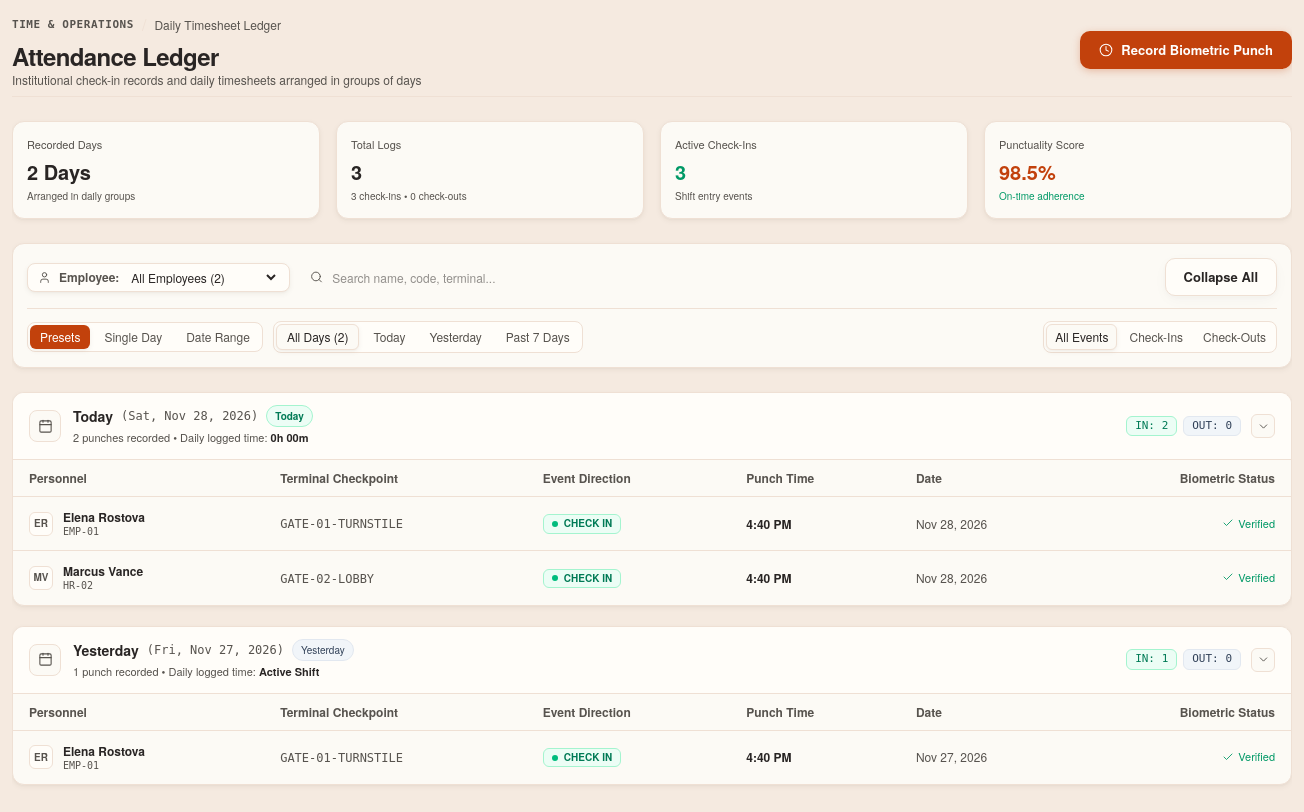
Test: AttendancePage - Role-Based Attendance Ledger Arranged in Groups of Days › allows HR to search or select one specific employee and view only their attendance
The image size is (1304, 812).
Check: the heading "Attendance Ledger" is shown, box [12, 39, 219, 73]
# HR can select Elena Rostova from the employee dropdown
Step 1. Select "Elena Rostova (EMP-01)" in the dropdown named "Filter by employee" → (203, 277), box [127, 268, 279, 287]
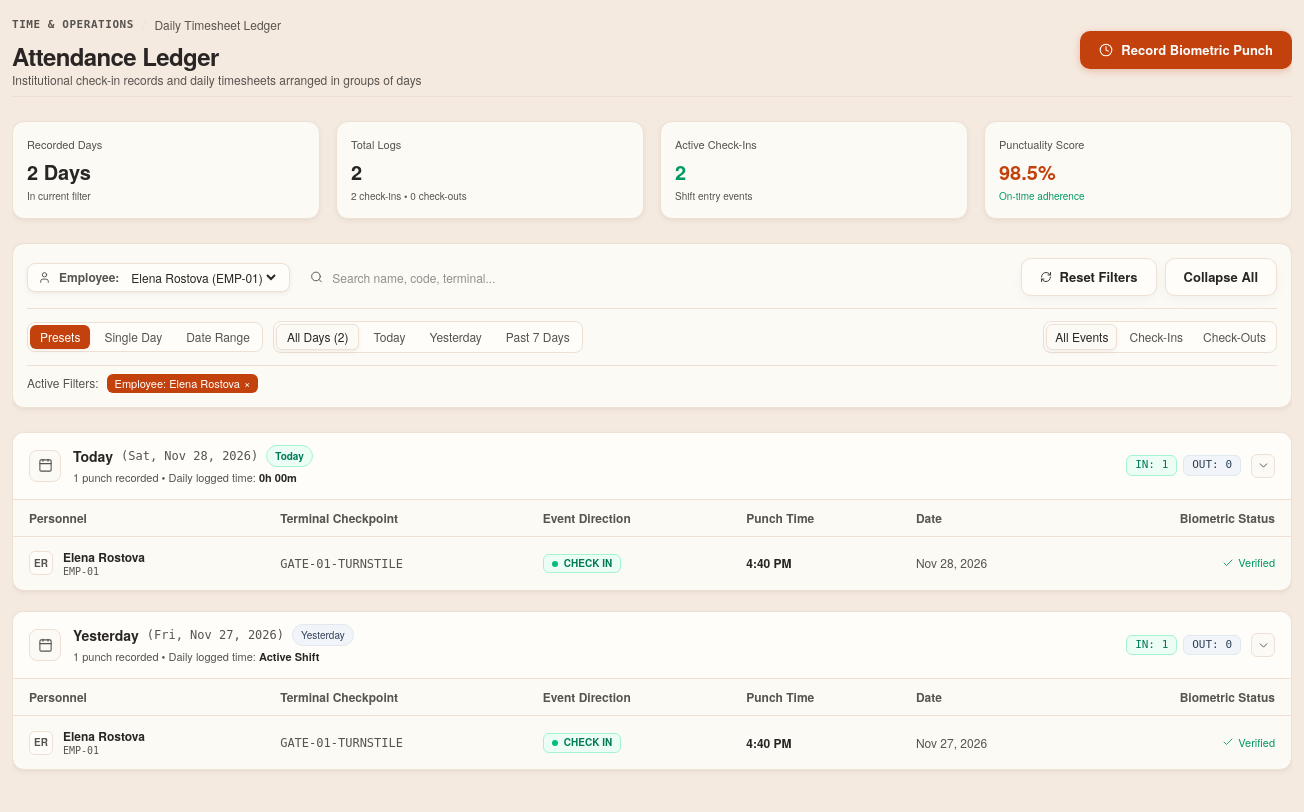
Check: the text "Employee: Elena Rostova" is shown, box [114, 376, 240, 391]
